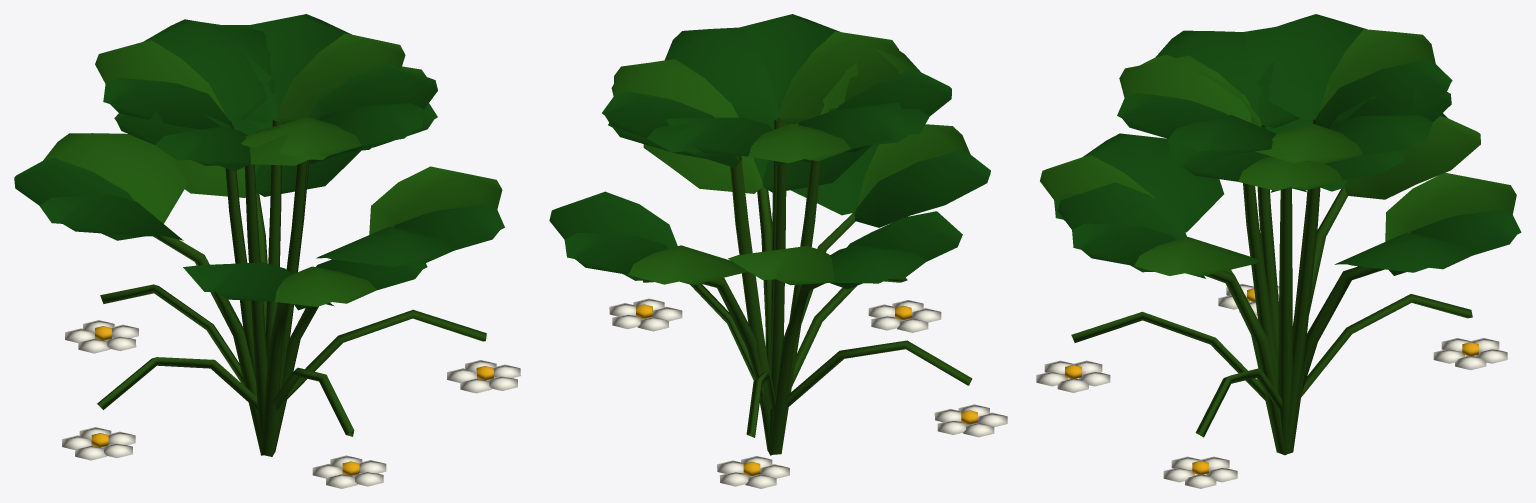
Rendered from BushBerries_3.obj.
3 views of the same model, side by side, from view 1: azimuth 30°, elevation 25°; view 2: azimuth 150°, elevation 25°; view 3: azimuth 270°, elevation 25° (orthographic).
Parts seen in each view (by area): view 1: BushBerries_3; view 2: BushBerries_3; view 3: BushBerries_3.
Part boxes in pixels (<box>): BushBerries_3: <box>14,14,520,488</box>; BushBerries_3: <box>549,14,1007,488</box>; BushBerries_3: <box>1036,14,1521,488</box>.
Size of the model in its own units: 0.3473 by 0.3023 by 0.347.
